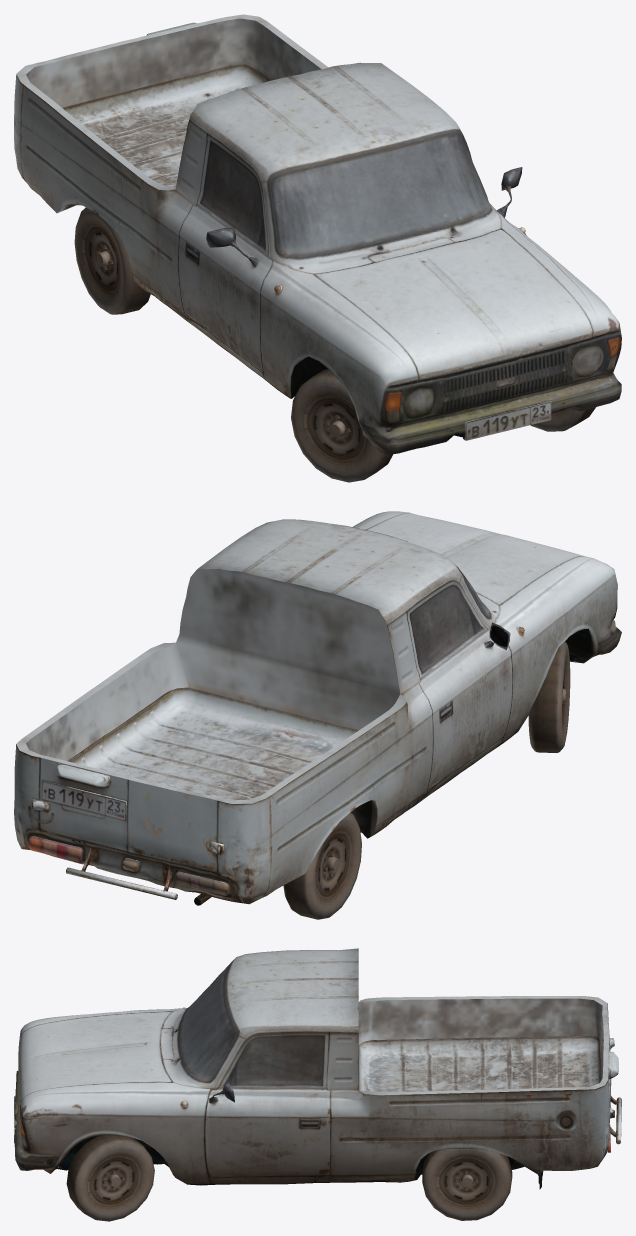
3 views of the same model, one above another, from view 1: azimuth 30°, elevation 25°; view 2: azimuth 150°, elevation 25°; view 3: azimuth 270°, elevation 25° (orthographic). The views are drawn at different scales.
Parts seen in each view (by area): view 1: OldCar, Cylinder, Cylinder.001, Cylinder.002; view 2: OldCar, Cylinder.001, Cylinder; view 3: OldCar, Cylinder.002, Cylinder.003.
Part boxes in pixels (<box>): OldCar: <box>14,14,621,454</box>; Cylinder: <box>291,369,393,482</box>; Cylinder.001: <box>74,207,150,314</box>; Cylinder.002: <box>530,407,595,431</box>; OldCar: <box>14,511,621,905</box>; Cylinder.001: <box>283,812,361,919</box>; Cylinder: <box>528,641,570,752</box>; OldCar: <box>14,948,621,1189</box>; Cylinder.002: <box>66,1134,154,1221</box>; Cylinder.003: <box>422,1148,512,1220</box>.
Bounding box in the file's own units: 2.03 × 1.64 × 4.49.
1 material, 1 textured.
